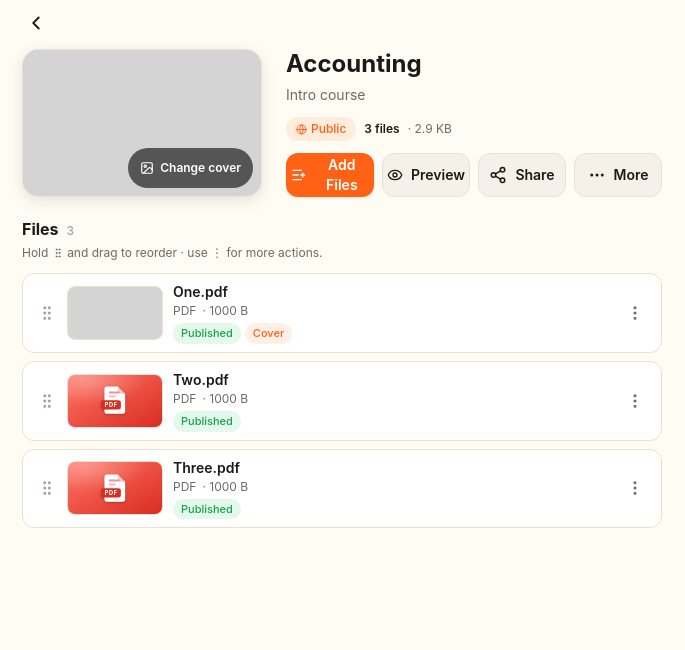
Test case: Creator playlist page — Add Files (existing channel Library workflow) › lists the channel's files, disables the ones already in the playlist and keeps the Add button inert until something is selected
This screenshot has width=685, height=650.
Click the button with test id "action-add-files". click: (330, 175)
box: [286, 153, 374, 197]
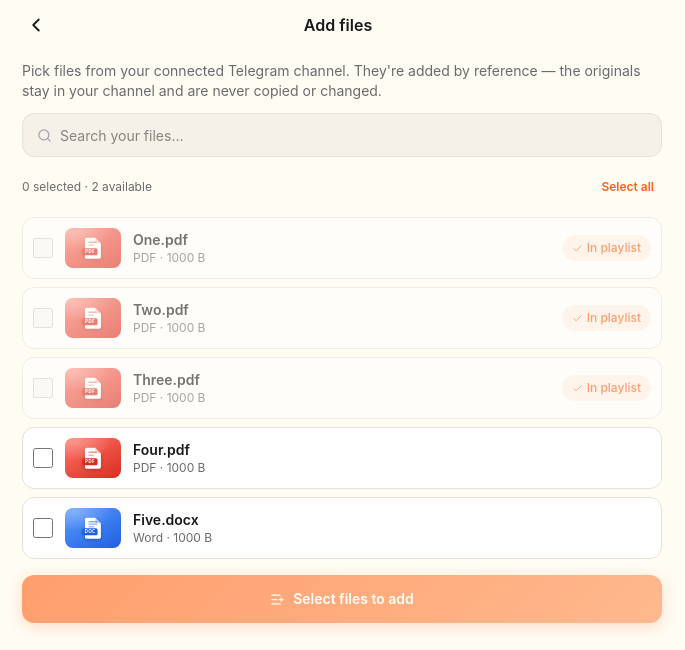
expect the list with test id "library-picker" is shown: met, box [22, 217, 662, 559]
expect the text "In playlist" is shown: met, box [562, 235, 651, 261]
expect the button with test id "add-files-submit" is disabled: met, box [22, 575, 662, 623]
